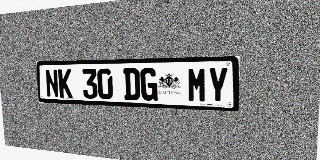0: (97, 68, 113, 99)
3: (82, 69, 98, 99)
D: (123, 68, 140, 100)
G: (140, 68, 158, 101)
K: (58, 69, 73, 98)
M: (187, 67, 207, 103)
N: (45, 69, 59, 98)
Y: (208, 67, 228, 103)
